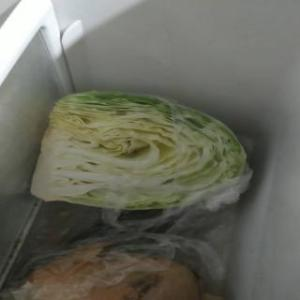cabbage: (30, 92, 260, 214)
